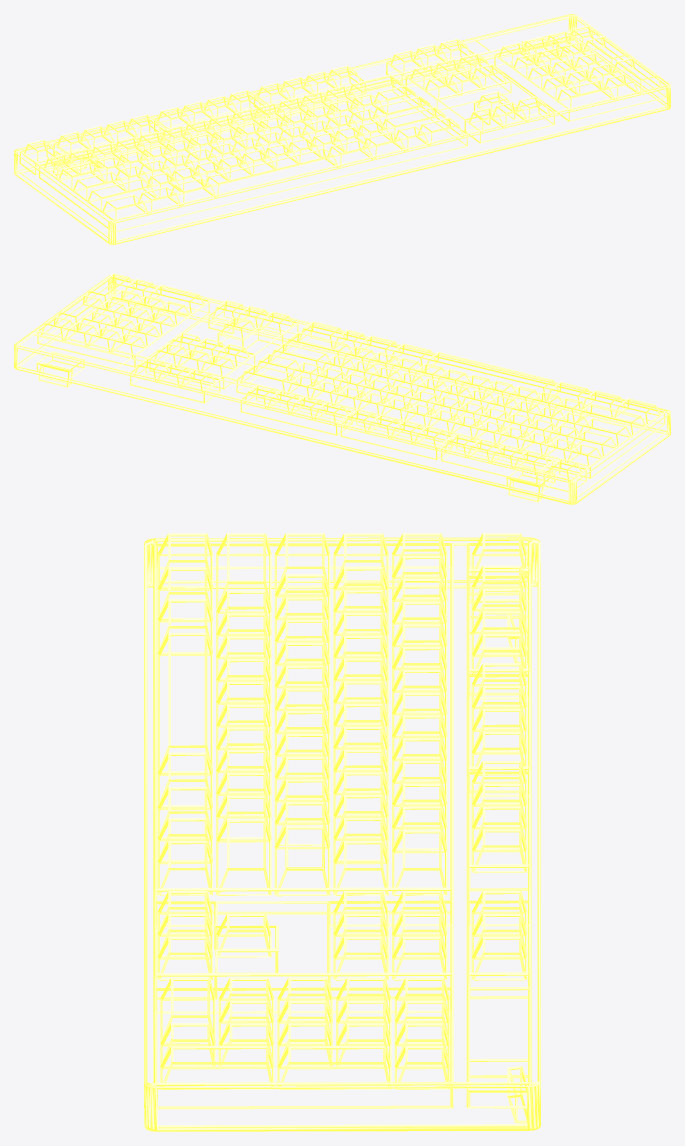
The model's file is keyboard_flat_wireframe.gltf.
3 views of the same model, one above another, from view 1: azimuth 30°, elevation 25°; view 2: azimuth 150°, elevation 25°; view 3: azimuth 270°, elevation 25° (orthographic). The views are drawn at different scales.
Visible parts, largest first — view 1: Whole Keyboard, Keys.069, Keys.054, Keys.065, Keys.053, Keys.087, Keys.026, Keys.092, Keys.099, Keys.041, Keys.027; view 2: Whole Keyboard, Keys.069, Keys.054, Keys.065, Keys.053, Keys.026, Keys.087, Keys.092, Keys.099, Keys.041; view 3: Whole Keyboard, Keys.069, Keys.099, Keys.092, Keys.053, Keys.065, Keys.054, Keys.026, Keys.041, Keys.087, Keys.040, Keys.073 (+93 smaller).
Boxes of the visible parts, bbox=[...] form: Whole Keyboard: bbox=[14, 14, 670, 244]; Keys.069: bbox=[204, 148, 339, 197]; Keys.054: bbox=[87, 178, 156, 211]; Keys.065: bbox=[380, 106, 449, 140]; Keys.053: bbox=[372, 96, 435, 128]; Keys.087: bbox=[556, 80, 615, 110]; Keys.026: bbox=[348, 74, 405, 105]; Keys.092: bbox=[612, 57, 663, 93]; Keys.099: bbox=[583, 36, 633, 72]; Keys.041: bbox=[72, 171, 126, 201]; Keys.027: bbox=[57, 162, 105, 190]; Whole Keyboard: bbox=[14, 275, 670, 504]; Keys.069: bbox=[424, 352, 559, 400]; Keys.054: bbox=[577, 403, 646, 436]; Keys.065: bbox=[284, 332, 353, 364]; Keys.053: bbox=[269, 343, 332, 373]; Keys.026: bbox=[239, 364, 298, 394]; Keys.087: bbox=[146, 285, 205, 314]; Keys.092: bbox=[84, 273, 135, 308]; Keys.099: bbox=[55, 294, 105, 329]; Keys.041: bbox=[578, 418, 632, 447]; Whole Keyboard: bbox=[144, 537, 540, 1131]; Keys.069: bbox=[157, 633, 212, 773]; Keys.099: bbox=[277, 1046, 391, 1089]; Keys.092: bbox=[160, 1046, 274, 1089]; Keys.053: bbox=[274, 826, 330, 896]; Keys.065: bbox=[216, 819, 271, 895]; Keys.054: bbox=[216, 533, 271, 609]; Keys.026: bbox=[392, 830, 447, 895]; Keys.041: bbox=[274, 533, 330, 594]; Keys.087: bbox=[160, 977, 215, 1043]; Keys.040: bbox=[333, 841, 388, 895]; Keys.073: bbox=[157, 841, 212, 895].
Bounding box in the file's own units: 80.91 × 5.25 × 24.74.
